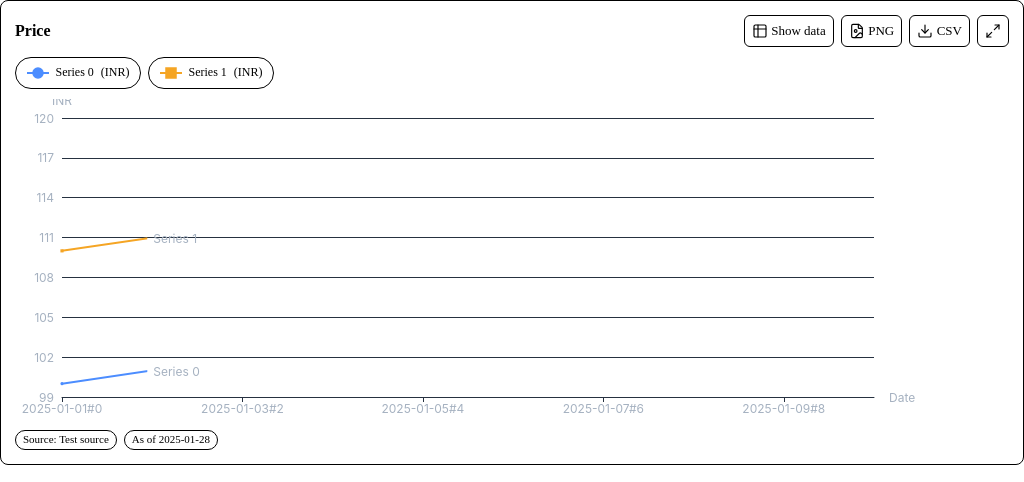
UI-10 every chart has a data-table view with parity › lists every x and every value with unit, using the reason for unknowns
Click the button with test id "chart-show-data".
click(789, 31)  # box x1=744 y1=15 x2=834 y2=46
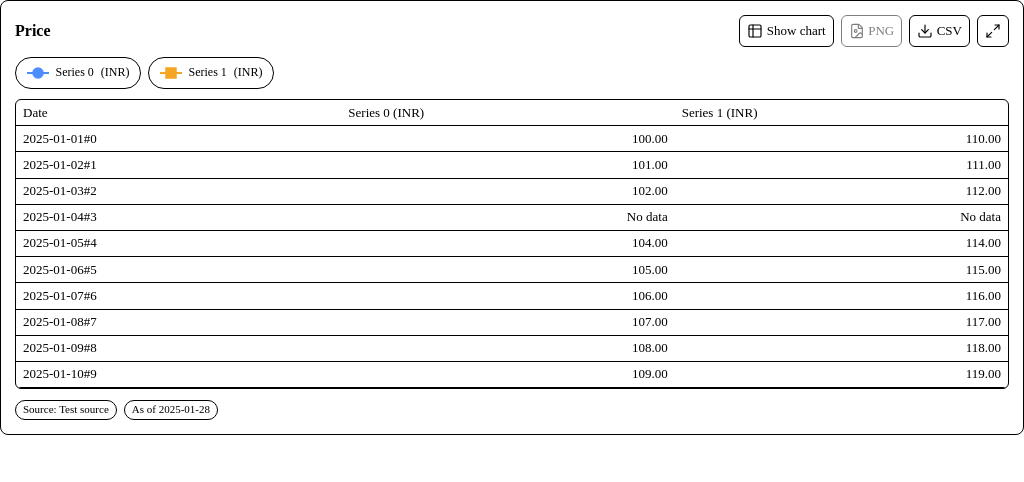
Expected: the number of rows with test id "chart-data-row" is 10
Expected: the 1st cell "No data" is shown, x1=341 y1=205 x2=675 y2=231
